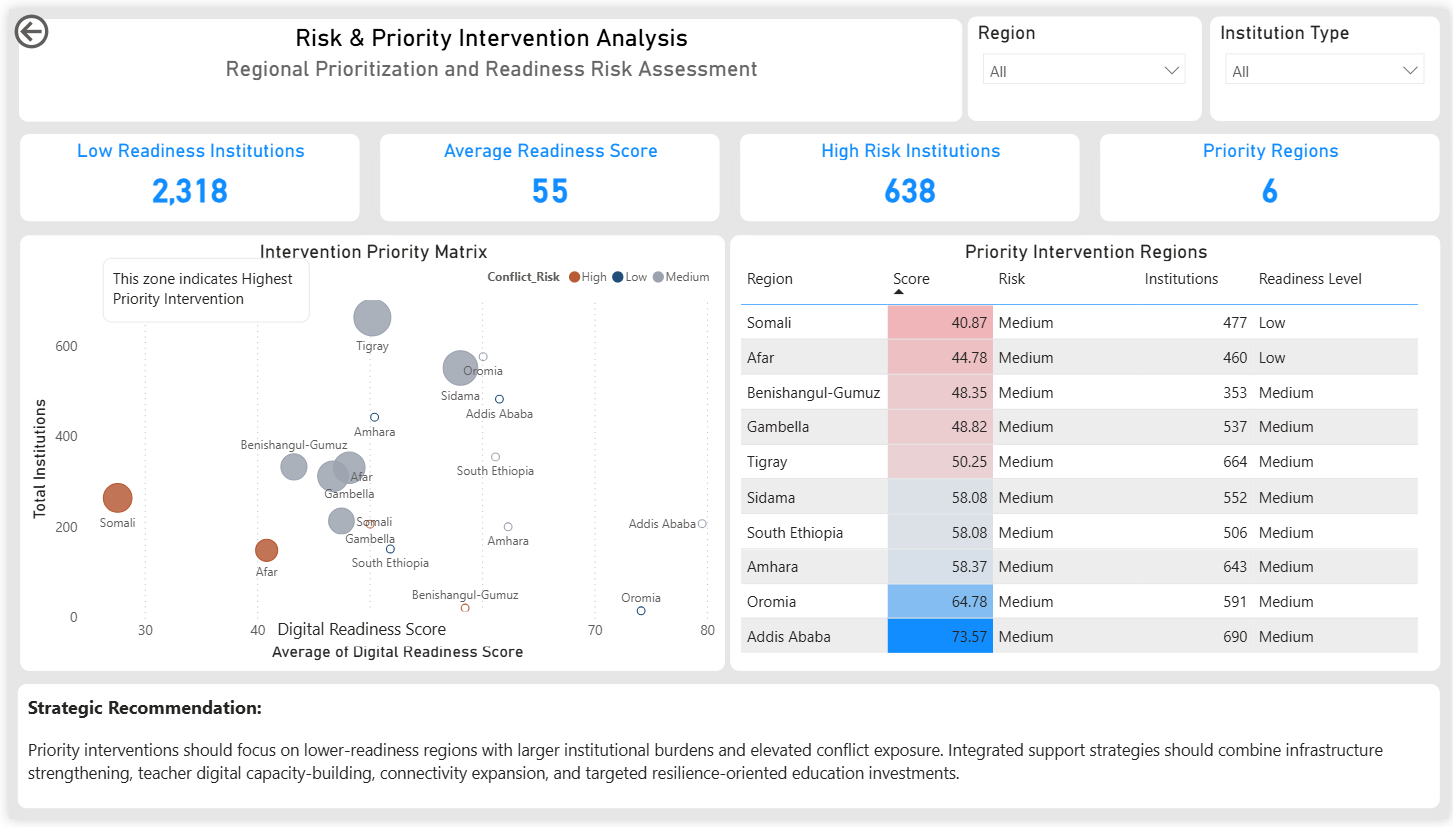

The dashboard page shown, as its layout file describes it:
{"tool":"powerbi","page":{"name":"Risk & Priority Analysis","canvas":[1280,720],"ordinal":2},"visuals":[{"type":"textbox","title":"Risk & Priority Intervention Analysis","box":[8.4,8.4,838.8,91.2],"z":0,"group":"g5"},{"type":"group","id":"g1","title":"Group 2","box":[10,201.2,1262.5,387.5],"z":0,"group":"g6"},{"type":"scatterChart","title":"Intervention Priority Matrix","fields":{"Category":["education_readiness.Region"],"X":["Avg(education_readiness.Digital Readiness Score)"],"Y":["education_readiness.Total Institutions"],"Series":["education_readiness.Conflict_Risk"],"Size":["education_readiness.Low Readiness Institutions"]},"box":[10,201.2,626.6,387.5],"z":0,"group":"g1"},{"type":"group","id":"g2","title":"Group 3","box":[851.6,6.6,420,92.5],"z":1000,"group":"g5"},{"type":"group","id":"g3","title":"Group 1","box":[10,111,1261.2,77.5],"z":1000,"group":"g6"},{"type":"tableEx","title":"Priority Intervention Regions","fields":{"Values":["education_readiness.Region","education_readiness.Avg Readiness Score","education_readiness.Dominant Risk Level","education_readiness.Total Institutions Measure","education_readiness.Dominant Readiness Level"]},"box":[640.9,201.2,631.6,387.5],"z":1000,"group":"g1"},{"type":"textbox","box":[7.5,600,1263.8,110],"z":1000,"group":"g4"},{"type":"card","title":"Low Readiness Institutions","fields":{"Values":["education_readiness.Low Readiness Institutions"]},"box":[10,111,301.7,77.5],"z":2000,"group":"g3"},{"type":"group","id":"g4","title":"Group 4","box":[7.5,600,1263.8,110],"z":2000,"group":"g6"},{"type":"slicer","title":"Region","fields":{"Values":["education_readiness.Region"]},"box":[851.6,6.6,207.7,92.5],"z":3000,"group":"g2"},{"type":"card","title":"Average Readiness Score","fields":{"Values":["education_readiness.Avg Digital Readiness Score"]},"box":[329.8,111,301.7,77.5],"z":3000,"group":"g3"},{"type":"textbox","box":[83.8,221.2,183.8,57.5],"z":3000,"group":"g6"},{"type":"slicer","title":"Institution Type ","fields":{"Values":["education_readiness.Institution_Type"]},"box":[1067.3,6.6,204.3,92.5],"z":4000,"group":"g2"},{"type":"card","title":"High Risk Institutions","fields":{"Values":["education_readiness.High Risk Institutions"]},"box":[649.7,111,301.7,77.5],"z":4000,"group":"g3"},{"type":"textbox","box":[233.8,535,227.5,31.2],"z":4000,"group":"g6"},{"type":"group","id":"g5","title":"Group 6","box":[8.4,6.6,1263.2,93],"z":4500,"group":"g6"},{"type":"actionButton","box":[0,0,100,40],"z":5000,"group":"g6"},{"type":"card","title":"Priority Regions","fields":{"Values":["education_readiness.Priority Regions"]},"box":[969.5,111,301.7,77.5],"z":5000,"group":"g3"},{"type":"group","id":"g6","title":"Group 5","box":[0,0,1272.5,710],"z":6002}]}

Visuals, with their boxes in screenshot pixels (x1, y1, x2, y2), scaled from the page's 1280x720 canvas onto the 1453x827 screenshot:
"Risk & Priority Intervention Analysis" textbox: bbox(10, 10, 962, 114)
"Group 2" group: bbox(11, 231, 1444, 676)
"Intervention Priority Matrix" scatterChart: bbox(11, 231, 723, 676)
"Group 3" group: bbox(967, 8, 1443, 114)
"Group 1" group: bbox(11, 127, 1443, 217)
"Priority Intervention Regions" tableEx: bbox(728, 231, 1444, 676)
textbox: bbox(9, 689, 1443, 816)
"Low Readiness Institutions" card: bbox(11, 127, 354, 217)
"Group 4" group: bbox(9, 689, 1443, 816)
"Region" slicer: bbox(967, 8, 1202, 114)
"Average Readiness Score" card: bbox(374, 127, 717, 217)
textbox: bbox(95, 254, 304, 320)
"Institution Type " slicer: bbox(1212, 8, 1443, 114)
"High Risk Institutions" card: bbox(738, 127, 1080, 217)
textbox: bbox(265, 615, 524, 650)
"Group 6" group: bbox(10, 8, 1443, 114)
actionButton: bbox(0, 0, 114, 46)
"Priority Regions" card: bbox(1101, 127, 1443, 217)
"Group 5" group: bbox(0, 0, 1444, 816)
